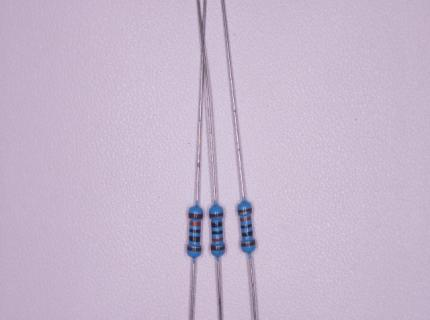Black band: (242, 230, 253, 236), (189, 236, 200, 242), (190, 228, 200, 234), (212, 222, 222, 227), (241, 224, 252, 228), (212, 231, 223, 234)
Brown band: (188, 213, 203, 219), (211, 245, 225, 251), (241, 240, 255, 246), (210, 213, 223, 218), (238, 208, 251, 213), (187, 247, 201, 251)
Orange band: (240, 216, 251, 222), (190, 222, 200, 227), (212, 237, 223, 241)
